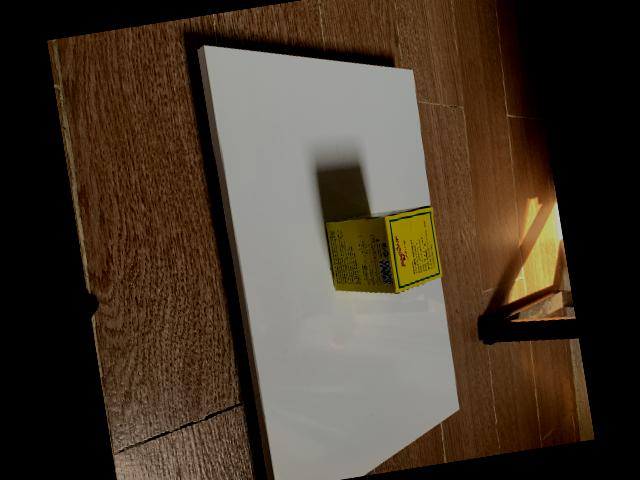luong_kho: (323, 206, 441, 294)
